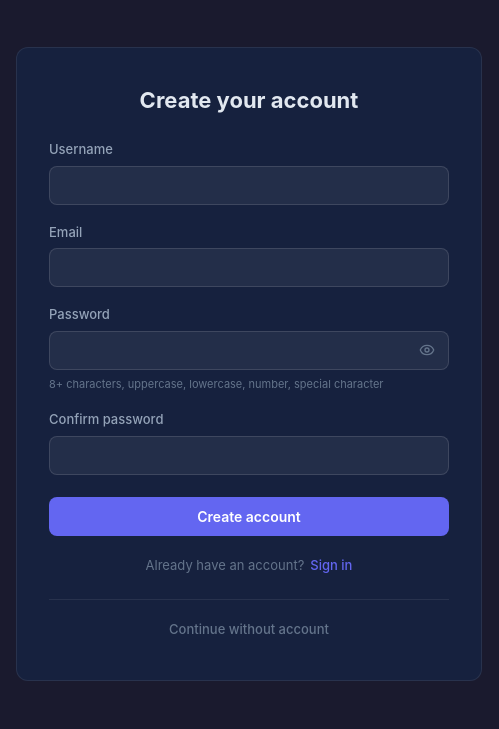
Test: Signup › password validation: no lowercase
Type "testuser" into the field labelled "Username" at [249, 185], box [49,166,449,205]
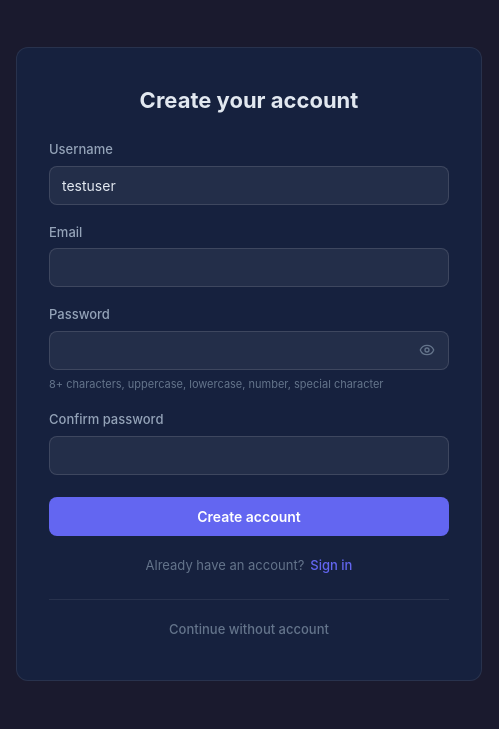
Type "test@example.com" into the field labelled "Email" at [249, 268], box [49,248,449,287]
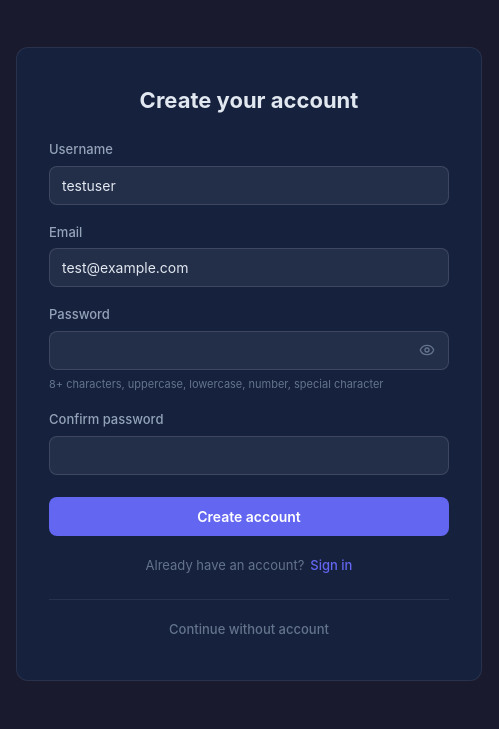
Type "ABCDEFGH1!" into the password field labelled "Password" at [249, 350], box [49,331,449,370]
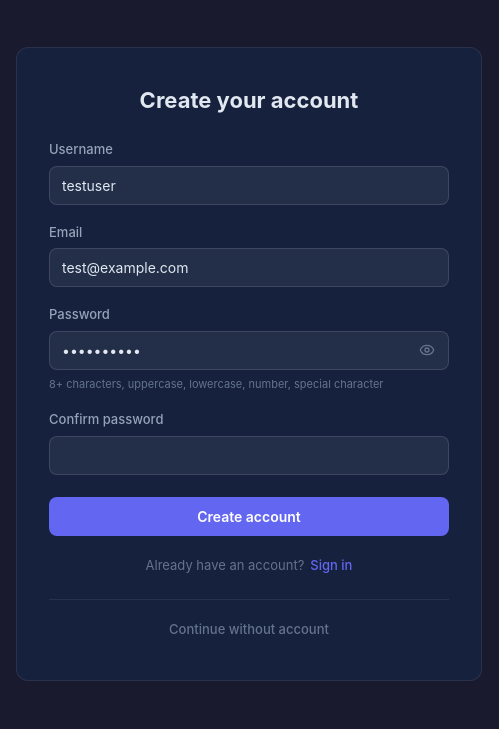
Type "ABCDEFGH1!" into the password field labelled "Confirm password" at [249, 455], box [49,436,449,475]
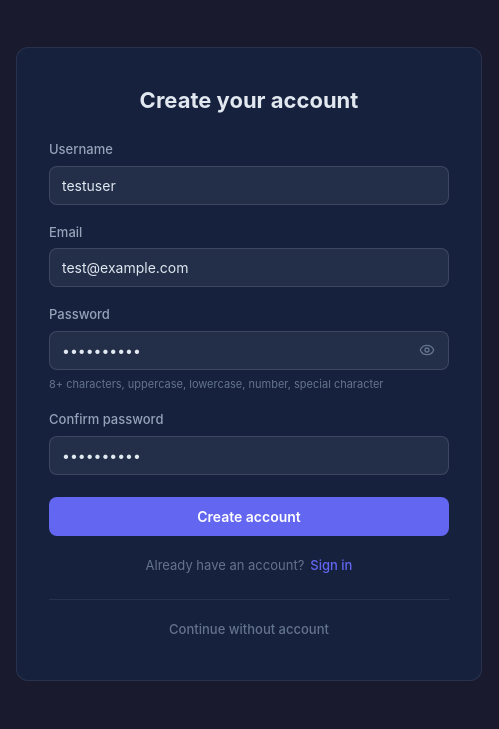
Click the button "Create account" at [249, 516], box [49,497,449,536]
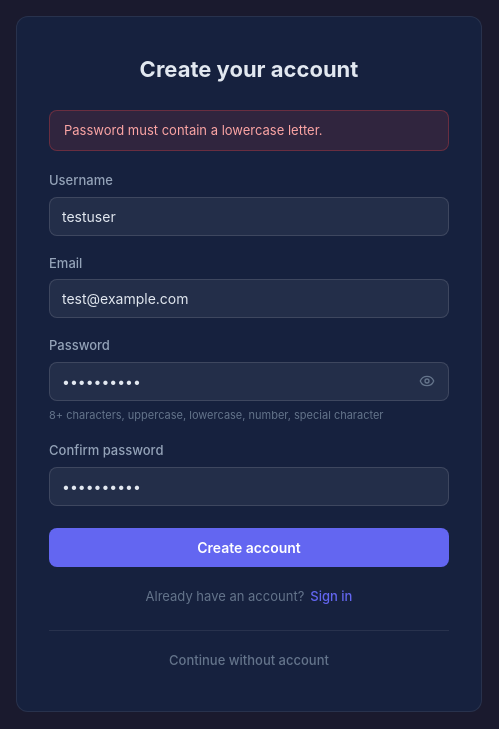
Now the text "Password must contain a lowercase letter." is shown, box [49,110,449,151]
